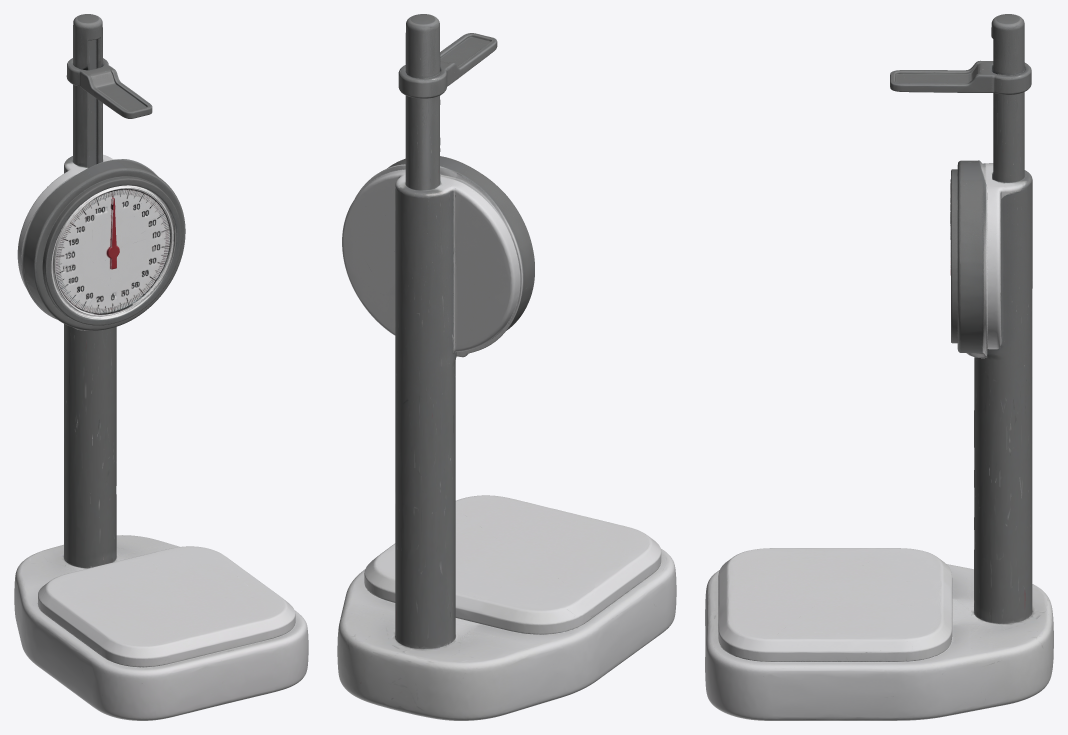
File: Meshy_AI_Mechanical_Physician_Scale_20261029_texture.fbx
3 views of the same model, side by side, from view 1: azimuth 30°, elevation 25°; view 2: azimuth 150°, elevation 25°; view 3: azimuth 270°, elevation 25° (orthographic). The views are drawn at different scales.
Visible parts, largest first — view 1: Mesh_0; view 2: Mesh_0; view 3: Mesh_0.
Part boxes in pixels (x1,y1,x2,y2): Mesh_0: (14, 14, 308, 720); Mesh_0: (337, 14, 676, 720); Mesh_0: (705, 14, 1053, 720).
Bounding box in the file's own units: 70.16 × 190 × 92.61.
1 material, 1 textured.
